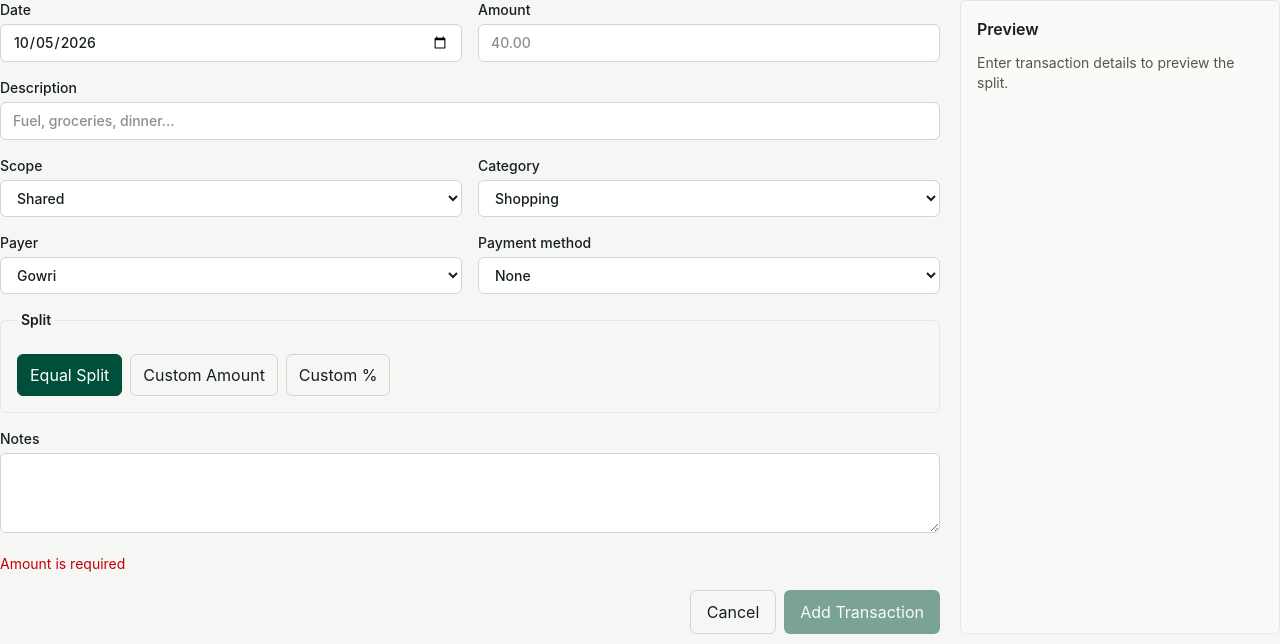
Test: TransactionForm › external participant removed - no inline creation
Click the button "Custom Amount".
click(204, 375)  # box top-left (130, 354), bottom-right (278, 396)
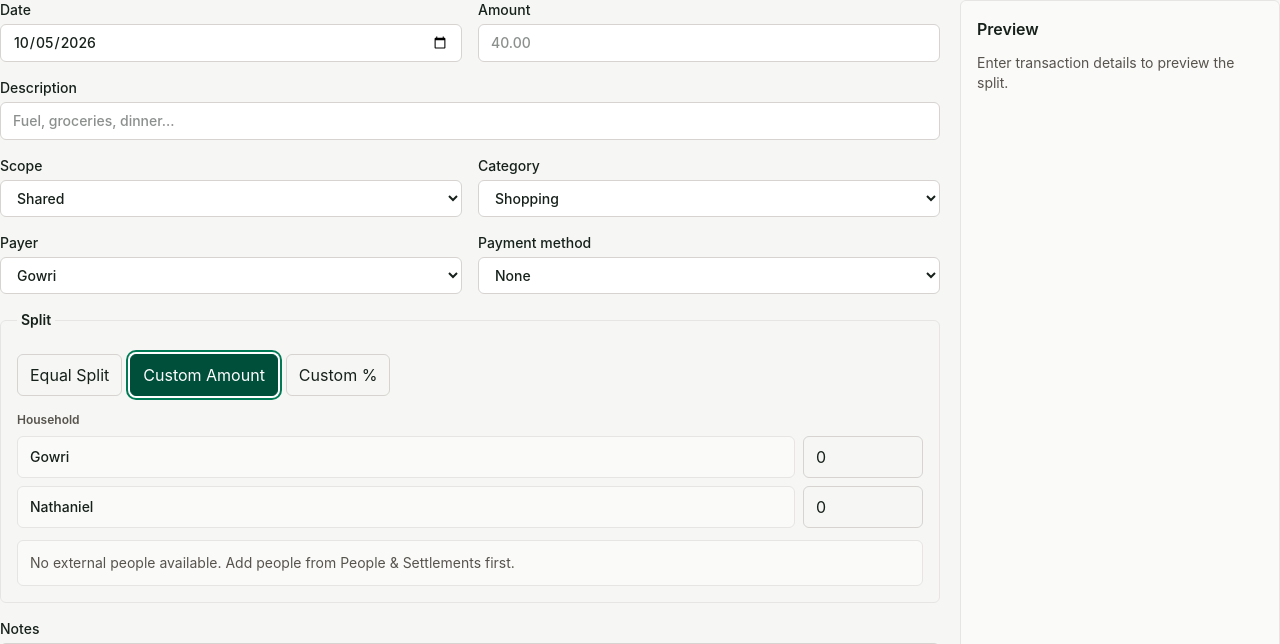
Expected: the text "No external people available" is shown, top-left (30, 554), bottom-right (515, 571)
